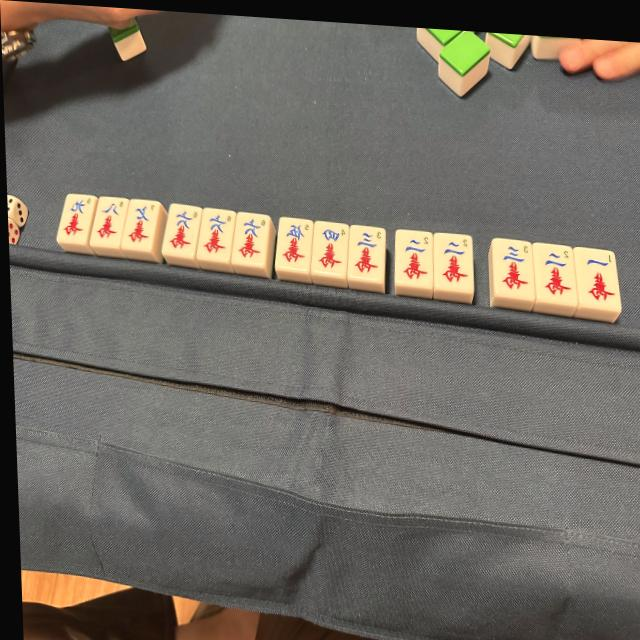m1: (578, 251, 618, 306)
m2: (535, 245, 573, 298), (434, 235, 470, 286), (396, 231, 431, 283)
m3: (492, 240, 532, 294), (349, 227, 384, 276)
m4: (312, 223, 347, 272)
m5: (275, 219, 312, 269)
m6: (235, 214, 271, 264), (165, 206, 201, 254), (199, 210, 234, 258)
m7: (126, 201, 160, 248)
m8: (94, 199, 126, 243)
m9: (61, 196, 95, 240)
